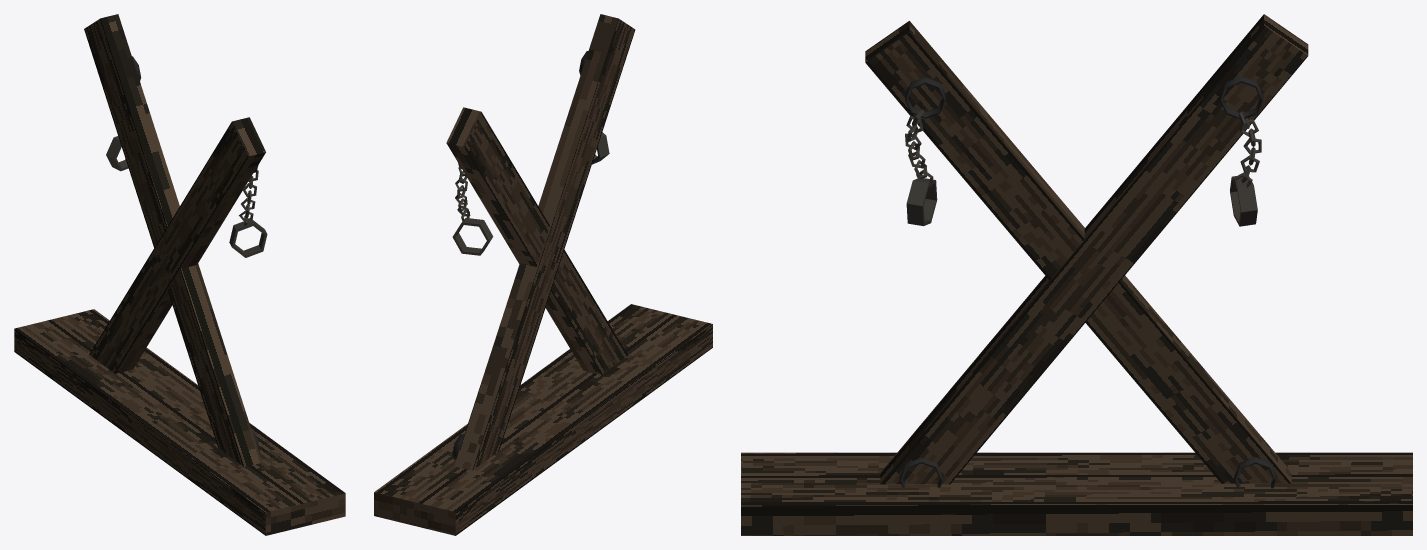
File: cruz.glb
3 renders of one model, left to right at view 1: azimuth 30°, elevation 25°; view 2: azimuth 150°, elevation 25°; view 3: azimuth 270°, elevation 25°, orthographic. The views are drawn at different scales.
Parts seen in each view (by area): view 1: cruz-col; view 2: cruz-col; view 3: cruz-col.
Boxes of the visible parts, left/top/right/bottom form: cruz-col: left=14, top=14, right=345, bottom=535; cruz-col: left=374, top=14, right=712, bottom=535; cruz-col: left=741, top=14, right=1412, bottom=535.
Size of the model in its own units: 0.4806 by 2.13 by 2.62.
4 materials, 2 textured.
